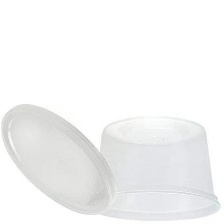glass: (84, 114, 224, 221)
